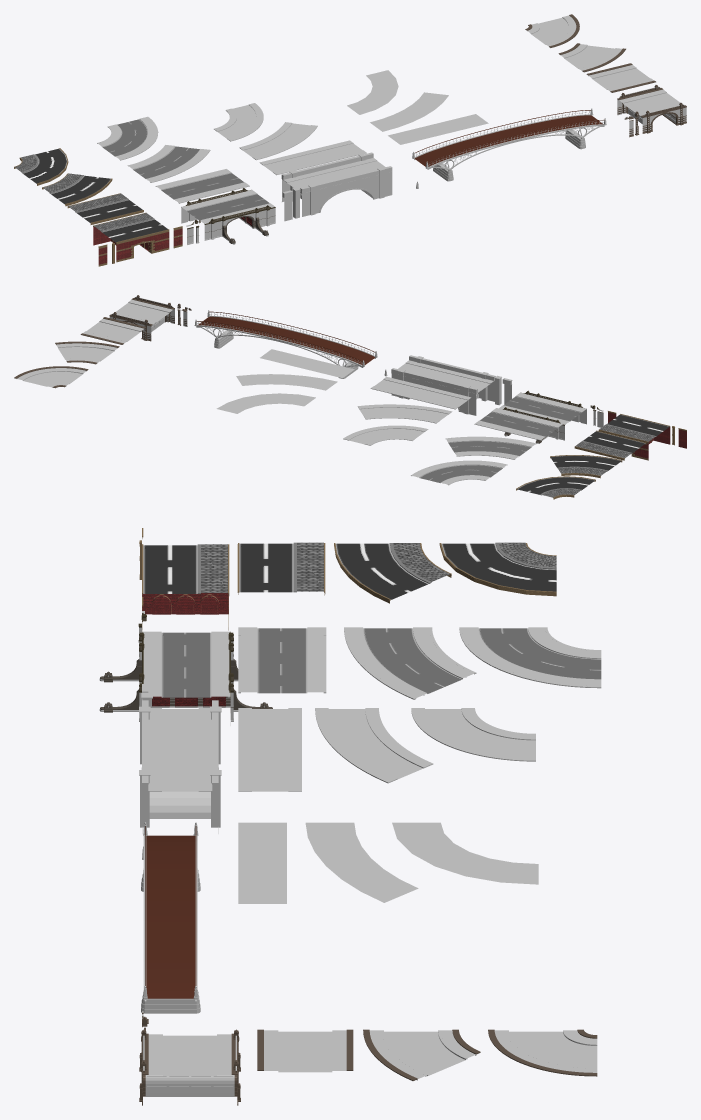
Rendered from All.Bridges.PBR.fbx.
3 views of the same model, one above another, from view 1: azimuth 30°, elevation 25°; view 2: azimuth 150°, elevation 25°; view 3: azimuth 270°, elevation 25° (orthographic). The views are drawn at different scales.
Parts seen in each view (by area): view 1: Bridge.004, Bridge.003, Bridge.002, Bridge.001, Bridge.005, Bridge.2.Road.A, Bridge.2.Road.B, Bridge.2.Road.C, Bridge.003.Road.A, Bridge.003.Road.B, Bridge.001.Road.A, Bridge.001.Road.B (+8 smaller); view 2: Bridge.004, Bridge.003, Bridge.002, Bridge.001, Bridge.2.Road.C, Bridge.2.Road.B, Bridge.2.Road.A, Bridge.005, Bridge.003.Road.A, Bridge.003.Road.B, Bridge.001.Road.A, Bridge.001.Road.B (+8 smaller); view 3: Bridge.004, Bridge.003, Bridge.002, Bridge.005, Bridge.001, Bridge.2.Road.C, Bridge.2.Road.B, Bridge.2.Road.A, Bridge.003.Road.A, Bridge.001.Road.C, Bridge.003.Road.B, Bridge.001.Road.B (+8 smaller).
Part boxes in pixels (x1,y1,x2,y2): Bridge.004: (412, 108, 606, 181); Bridge.003: (281, 152, 392, 216); Bridge.002: (181, 188, 275, 244); Bridge.001: (93, 212, 169, 262); Bridge.005: (617, 85, 686, 133); Bridge.2.Road.A: (155, 169, 249, 203); Bridge.2.Road.B: (127, 145, 210, 182); Bridge.2.Road.C: (97, 116, 158, 160); Bridge.003.Road.A: (259, 140, 366, 175); Bridge.003.Road.B: (239, 122, 317, 160); Bridge.001.Road.A: (67, 193, 143, 224); Bridge.001.Road.B: (42, 173, 112, 206); Bridge.004: (194, 310, 377, 378); Bridge.003: (391, 355, 495, 415); Bridge.002: (499, 390, 586, 443); Bridge.001: (598, 414, 670, 460); Bridge.2.Road.C: (411, 460, 507, 485); Bridge.2.Road.B: (445, 436, 536, 459); Bridge.2.Road.A: (474, 408, 562, 440); Bridge.005: (109, 295, 174, 341); Bridge.003.Road.A: (370, 376, 471, 409); Bridge.003.Road.B: (357, 404, 452, 423); Bridge.001.Road.A: (574, 430, 646, 460); Bridge.001.Road.B: (550, 455, 622, 478); Bridge.004: (141, 822, 200, 1013); Bridge.003: (139, 700, 221, 833); Bridge.002: (99, 631, 272, 725); Bridge.005: (139, 1029, 240, 1105); Bridge.001: (142, 544, 229, 630); Bridge.2.Road.C: (459, 627, 601, 688); Bridge.2.Road.B: (344, 627, 476, 699); Bridge.2.Road.A: (238, 627, 326, 693); Bridge.003.Road.A: (238, 708, 301, 791); Bridge.001.Road.C: (439, 542, 556, 596); Bridge.003.Road.B: (315, 708, 433, 783); Bridge.001.Road.B: (334, 543, 451, 603).
Bounding box in the file's own units: 13554 × 622 × 5219.
